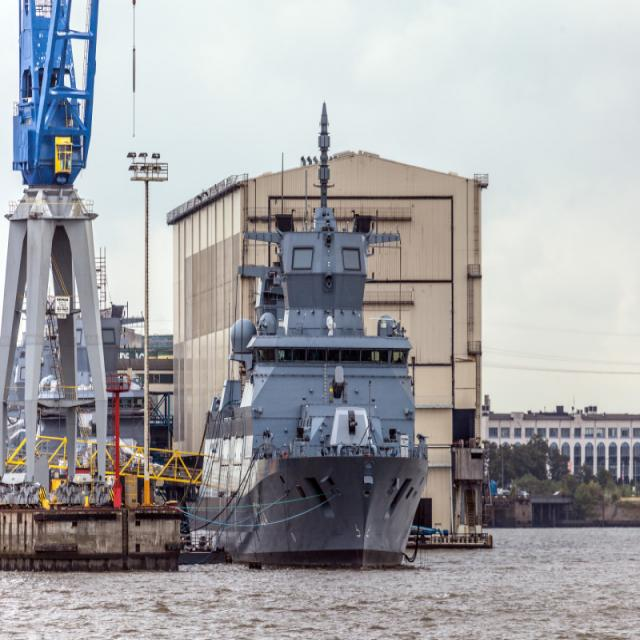Fragata: (180, 59, 433, 569)
